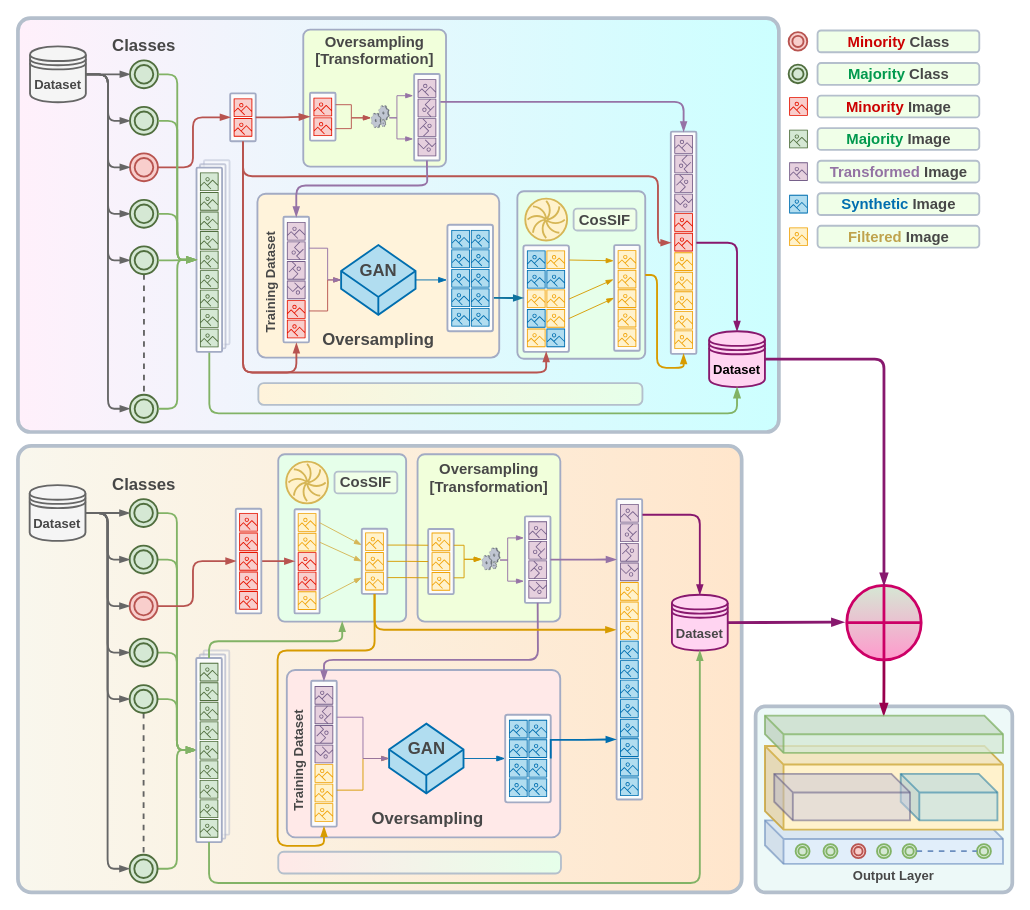
Some shapes in this 1030 by 910 pixel diagram are drawn without their labels. The shapes that lost their labels are listed below. From the top down, each one's centre as x and y in pixels, then its label:
At (450,393): "FAGT".
At (883,733): "Classifier Training".
At (841,796): "Pre-Trained Model".
At (948,796): "Fine-Tuning".
At (419,862): "FBGT".
